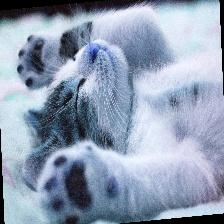kedo: (17, 4, 224, 223)
